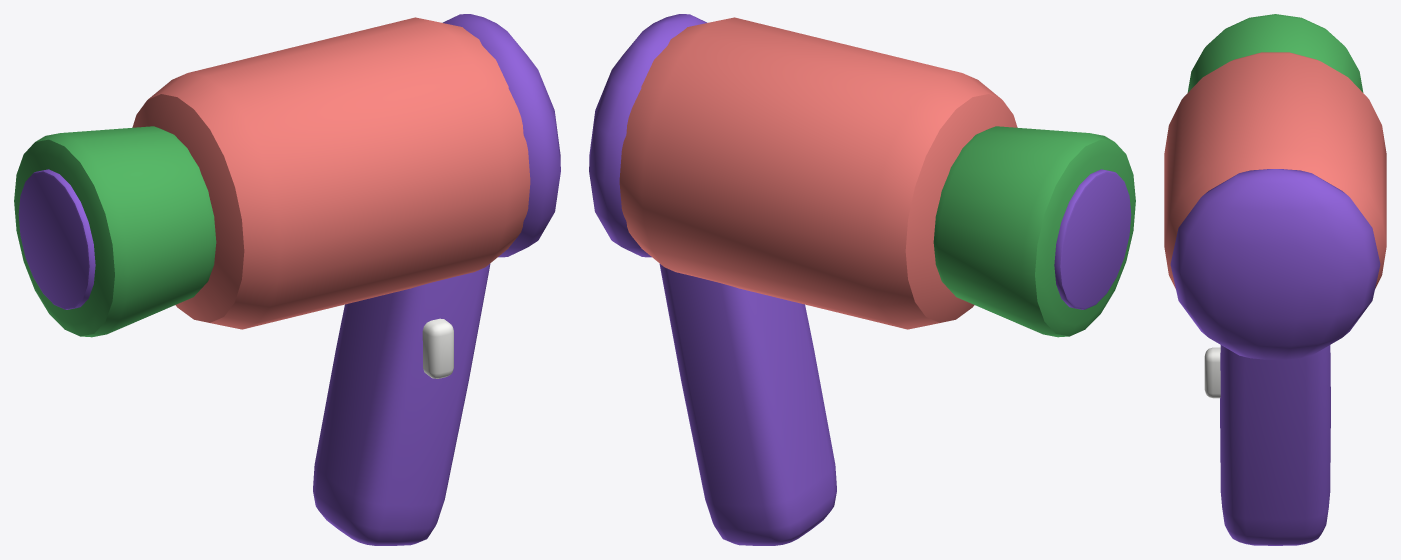
Rendered from secador_cabelo_rosa.glb.
3 views of the same model, side by side, from view 1: azimuth 30°, elevation 25°; view 2: azimuth 150°, elevation 25°; view 3: azimuth 270°, elevation 25° (orthographic). The views are drawn at different scales.
Parts seen in each view (by area): view 1: secador_cabelo_rosa; view 2: secador_cabelo_rosa; view 3: secador_cabelo_rosa.
Boxes of the visible parts, x1,y1,x2,y2 form: secador_cabelo_rosa: [14, 14, 560, 545]; secador_cabelo_rosa: [589, 14, 1135, 545]; secador_cabelo_rosa: [1164, 14, 1386, 545].
Size of the model in its own units: 0.2308 by 0.2266 by 0.11.
Materials: 1 (1 with a texture image).
